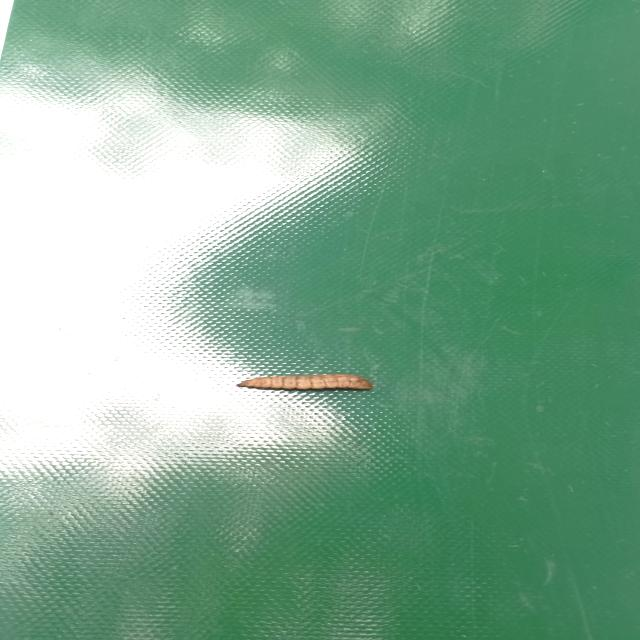Maggot: (239, 376, 374, 392)
